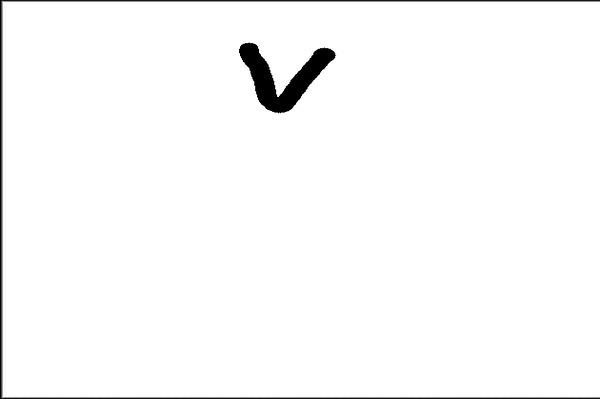V: (230, 35, 345, 115)
